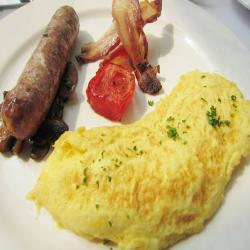omelette: (55, 81, 240, 249)
